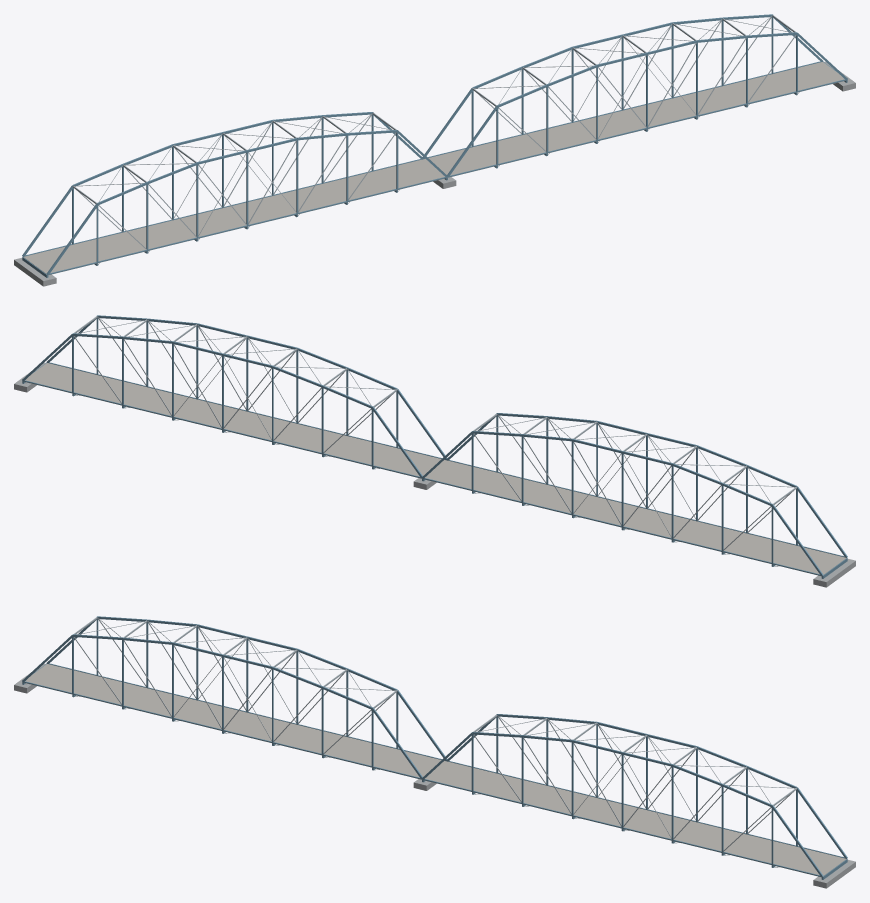
The model's file is bridge.glb.
3 views of the same model, one above another, from view 1: azimuth 30°, elevation 25°; view 2: azimuth 150°, elevation 25°; view 3: azimuth 330°, elevation 25° (orthographic).
Parts seen in each view (by area): view 1: deck_001, deck_002; view 2: deck_001, deck_002; view 3: deck_002, deck_001.
Part boxes in pixels (x1=…): deck_001: x1=23, y1=159, x2=446, y2=274; deck_002: x1=423, y1=62, x2=845, y2=177; deck_001: x1=423, y1=460, x2=846, y2=575; deck_002: x1=24, y1=363, x2=446, y2=478; deck_002: x1=423, y1=761, x2=846, y2=876; deck_001: x1=24, y1=664, x2=446, y2=779.
Bounding box in the file's own units: 93.24 × 9.24 × 5.85.
